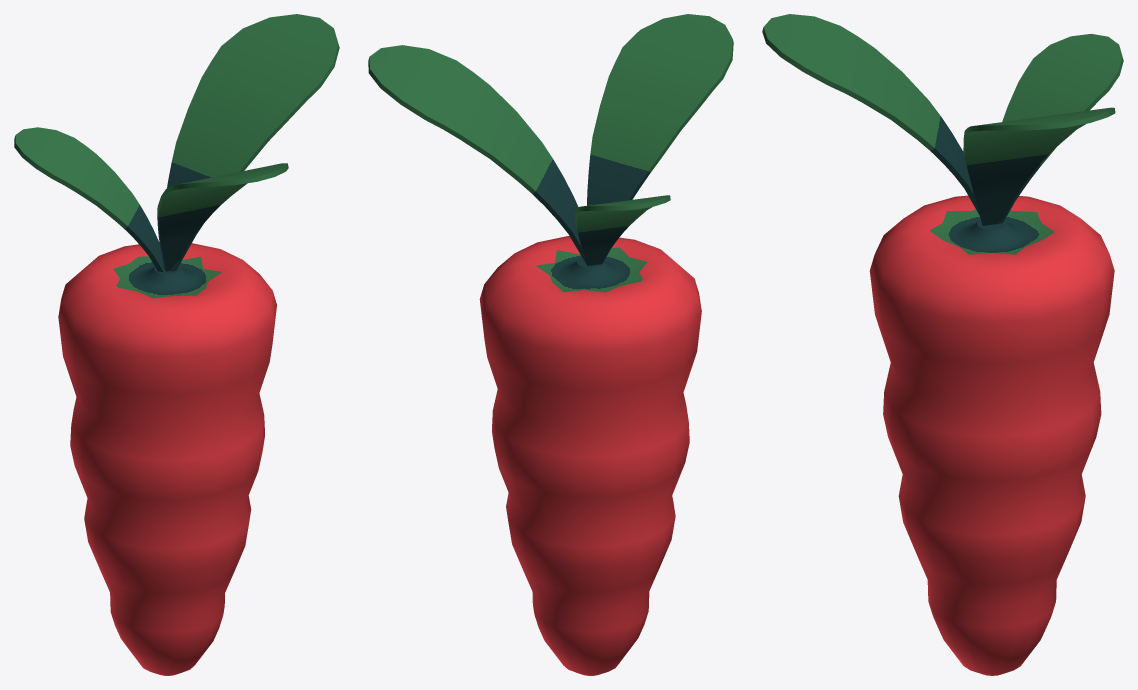
File: Zanahoria.fbx
The picture shows the model from 3 angles, left to right: view 1: azimuth 30°, elevation 25°; view 2: azimuth 150°, elevation 25°; view 3: azimuth 270°, elevation 25°; orthographic projection. The views are drawn at different scales.
Parts seen in each view (by area): view 1: Zanahoria; view 2: Zanahoria; view 3: Zanahoria.
Part boxes in pixels (left/top/right/bottom): Zanahoria: left=14, top=14, right=339, bottom=675; Zanahoria: left=368, top=14, right=733, bottom=675; Zanahoria: left=762, top=14, right=1123, bottom=675.
Size of the model in its own units: 43.28 by 81.2 by 41.08.
